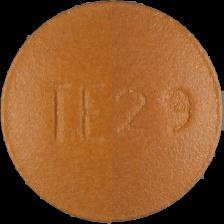43063-533: (0, 0, 224, 224)
